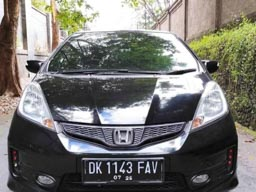plat: (82, 158, 161, 173)
